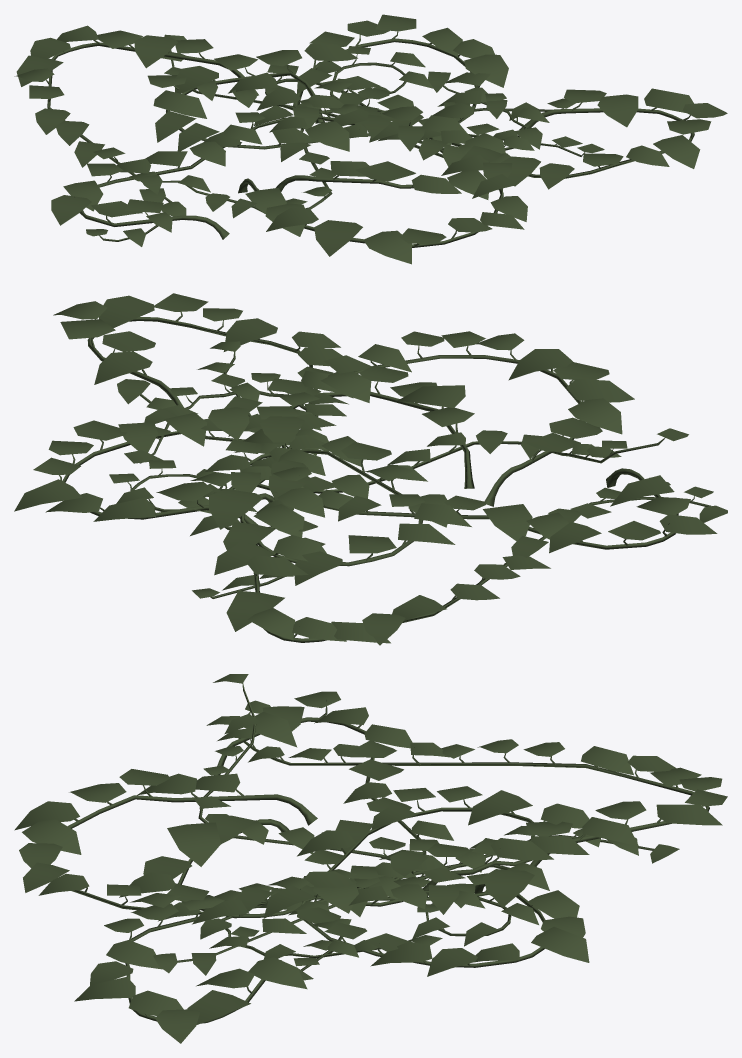
The model's file is scene_Ivy1.fbx.
The picture shows the model from 3 angles, top to bottom: view 1: azimuth 30°, elevation 25°; view 2: azimuth 150°, elevation 25°; view 3: azimuth 270°, elevation 25°; orthographic projection. The views are drawn at different scales.
Parts seen in each view (by area): view 1: Ivy1; view 2: Ivy1; view 3: Ivy1.
Boxes of the visible parts, x1=… form: Ivy1: x1=14, y1=14, x2=727, y2=264; Ivy1: x1=14, y1=293, x2=727, y2=645; Ivy1: x1=14, y1=674, x2=727, y2=1043.
Bounding box in the file's own units: 476 × 49.87 × 417.
